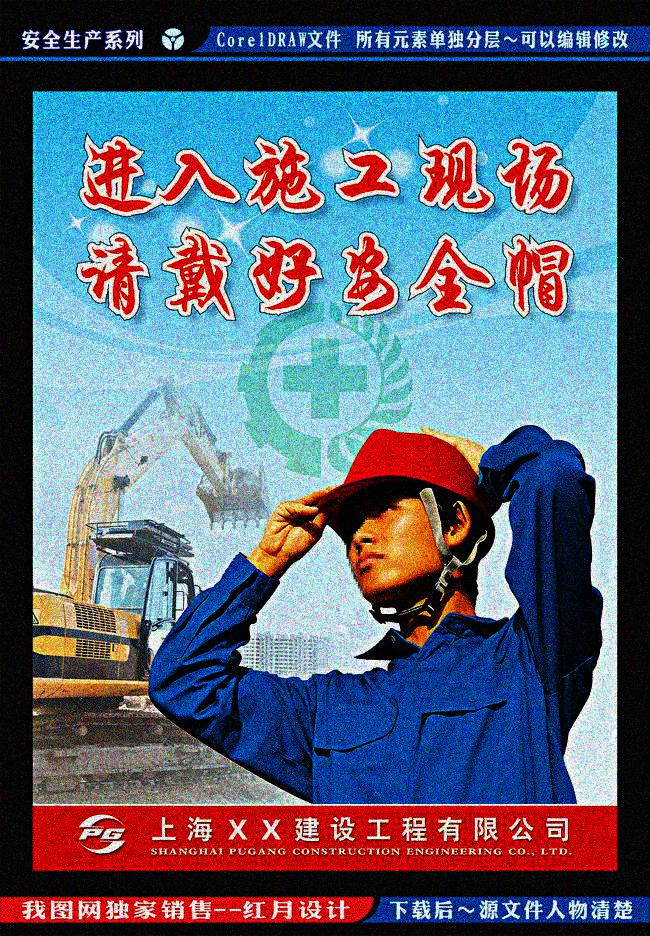helmet: (300, 424, 497, 607)
